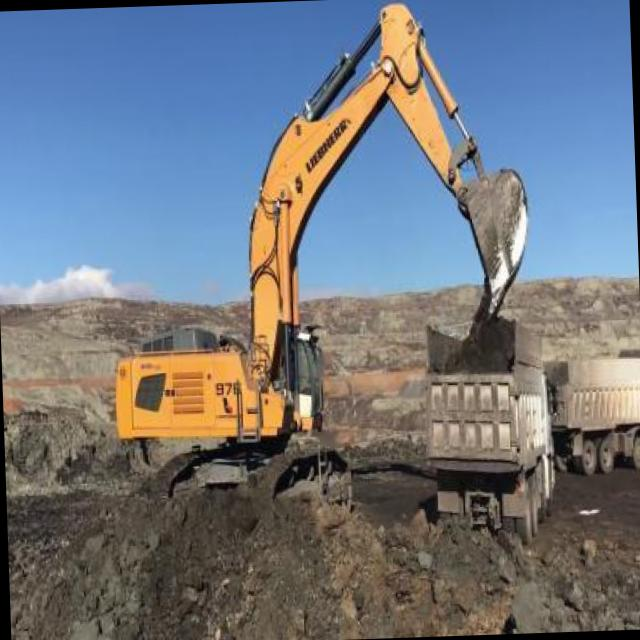Dump Truck: (417, 315, 556, 543), (543, 349, 640, 474)
Excavator: (98, 0, 540, 527)
